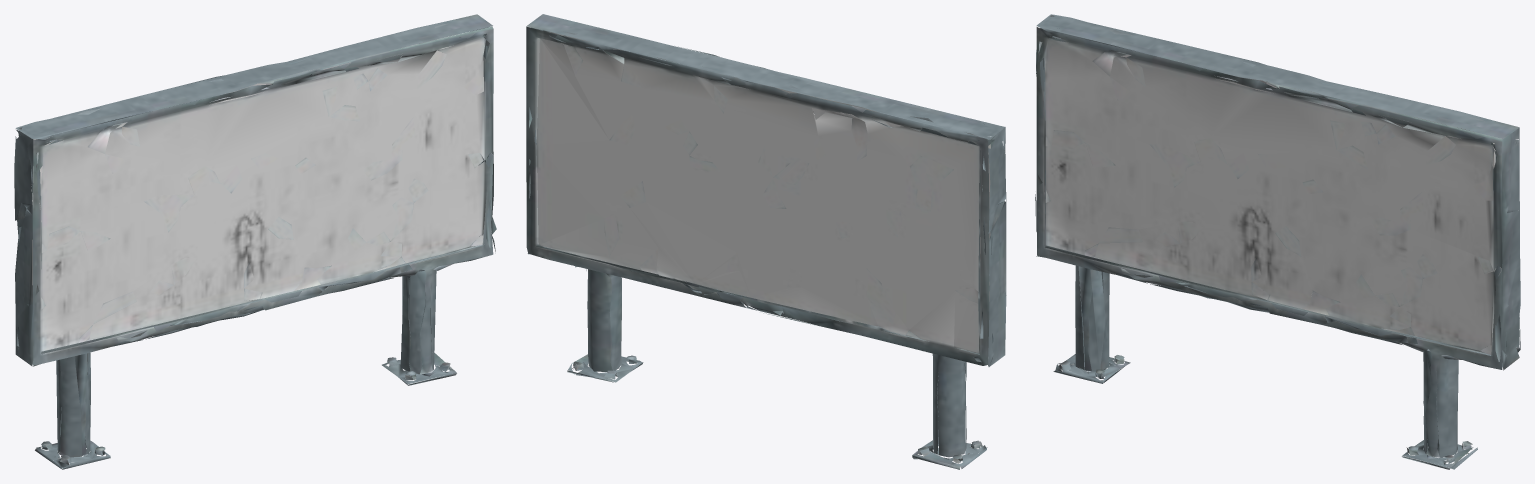
Rendered from kueste_werbetafel.glb.
3 views of the same model, side by side, from view 1: azimuth 30°, elevation 25°; view 2: azimuth 150°, elevation 25°; view 3: azimuth 330°, elevation 25° (orthographic).
Visible parts, largest first — view 1: Prop; view 2: Prop; view 3: Prop.
Part boxes in pixels (box(x1,y1,x2,y2)): Prop: box(14, 14, 496, 469); Prop: box(526, 14, 1006, 469); Prop: box(1035, 14, 1520, 469).
Bounding box in the file's own units: 1.47 × 1.01 × 0.1602.
1 material, 1 textured.
